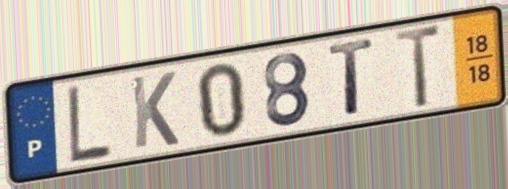0: (193, 60, 249, 140)
8: (262, 50, 313, 128)
K: (128, 68, 182, 152)
L: (65, 82, 115, 165)
T: (392, 22, 444, 112), (325, 35, 378, 119)
